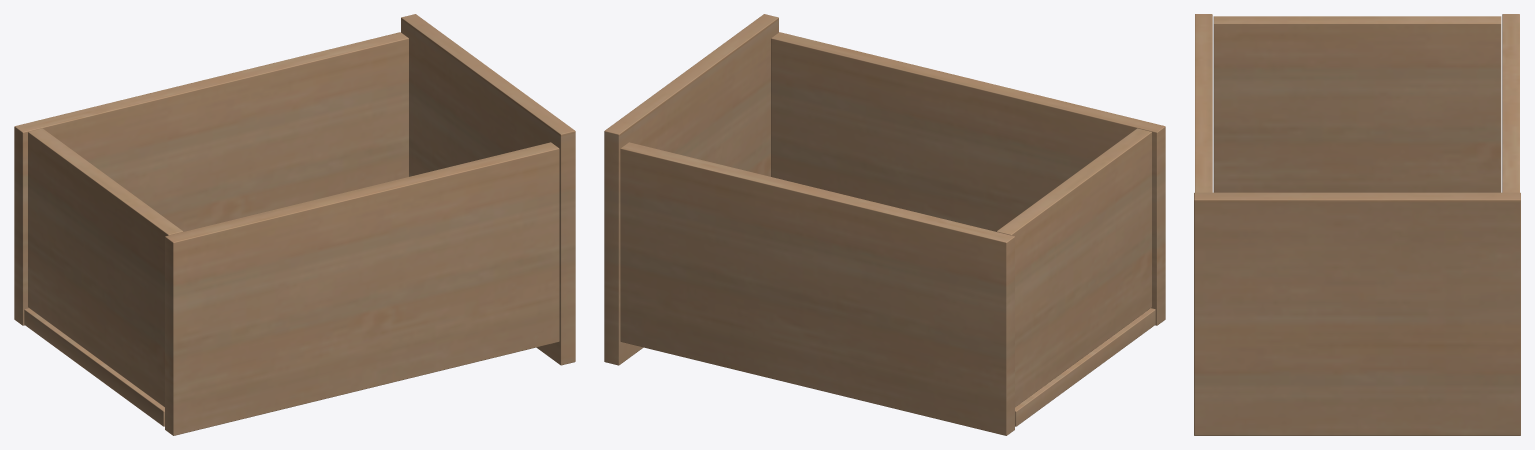
Rendered from CoffeeTableDrawer.fbx.
The picture shows the model from 3 angles, left to right: view 1: azimuth 30°, elevation 25°; view 2: azimuth 150°, elevation 25°; view 3: azimuth 270°, elevation 25°; orthographic projection. The views are drawn at different scales.
Visible parts, largest first — view 1: CoffeeTableDrawer; view 2: CoffeeTableDrawer; view 3: CoffeeTableDrawer.
Boxes of the visible parts, x1,y1,x2,y2 form: CoffeeTableDrawer: [14, 14, 575, 435]; CoffeeTableDrawer: [604, 14, 1165, 435]; CoffeeTableDrawer: [1194, 14, 1520, 435].
Size of what is drawn, in the model's own units: 57.45 by 39.6 by 31.6.
1 material, 1 textured.
